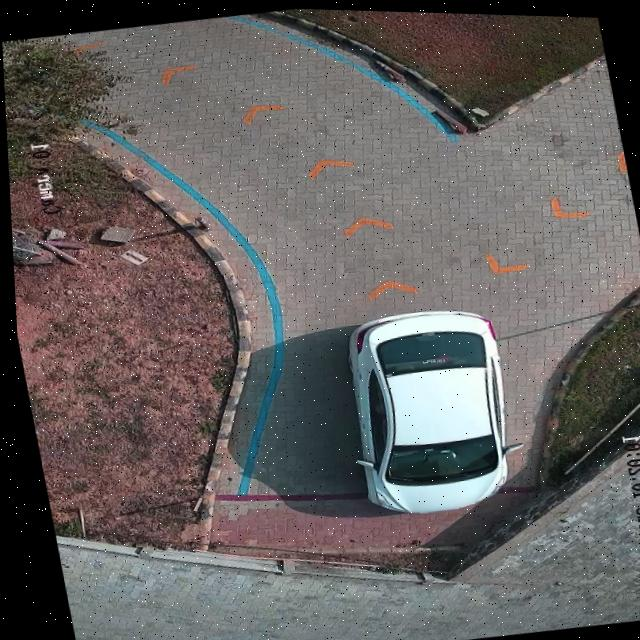car: (344, 308, 511, 511)
